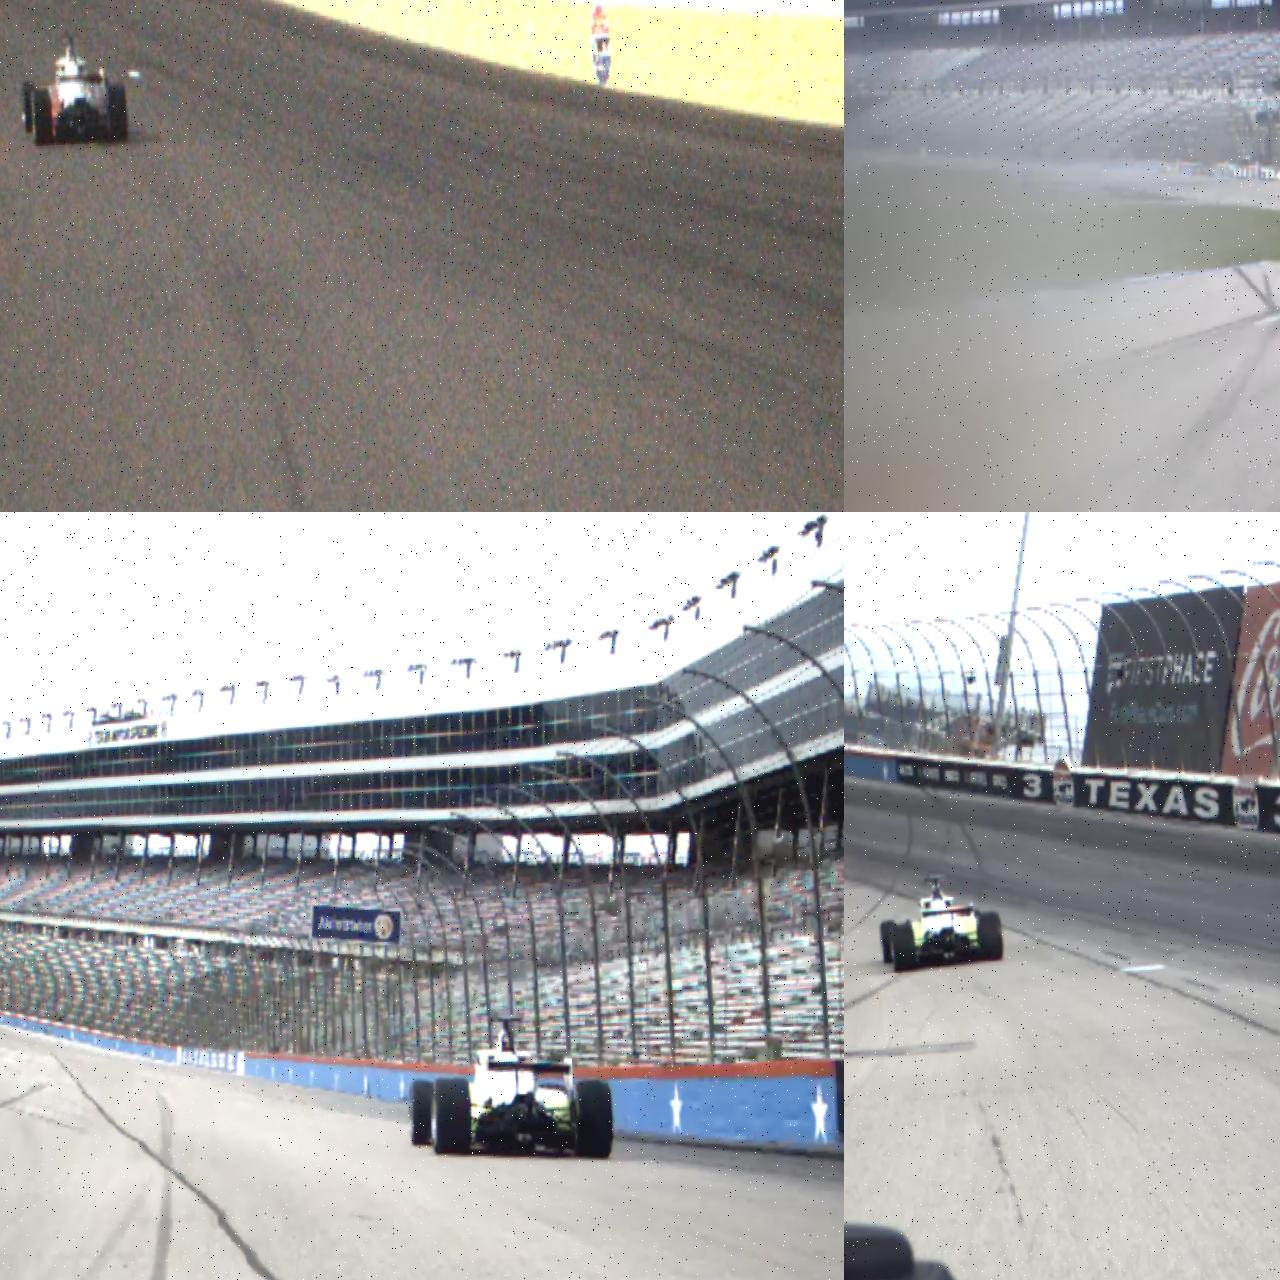AV: (402, 1009, 617, 1170), (16, 29, 129, 150), (877, 871, 1005, 973)
Wheel: (429, 1076, 474, 1156), (574, 1078, 615, 1160), (407, 1080, 440, 1148), (978, 910, 1003, 962), (108, 83, 129, 145), (891, 922, 917, 973), (30, 89, 53, 147), (20, 80, 38, 132), (879, 919, 897, 965)
